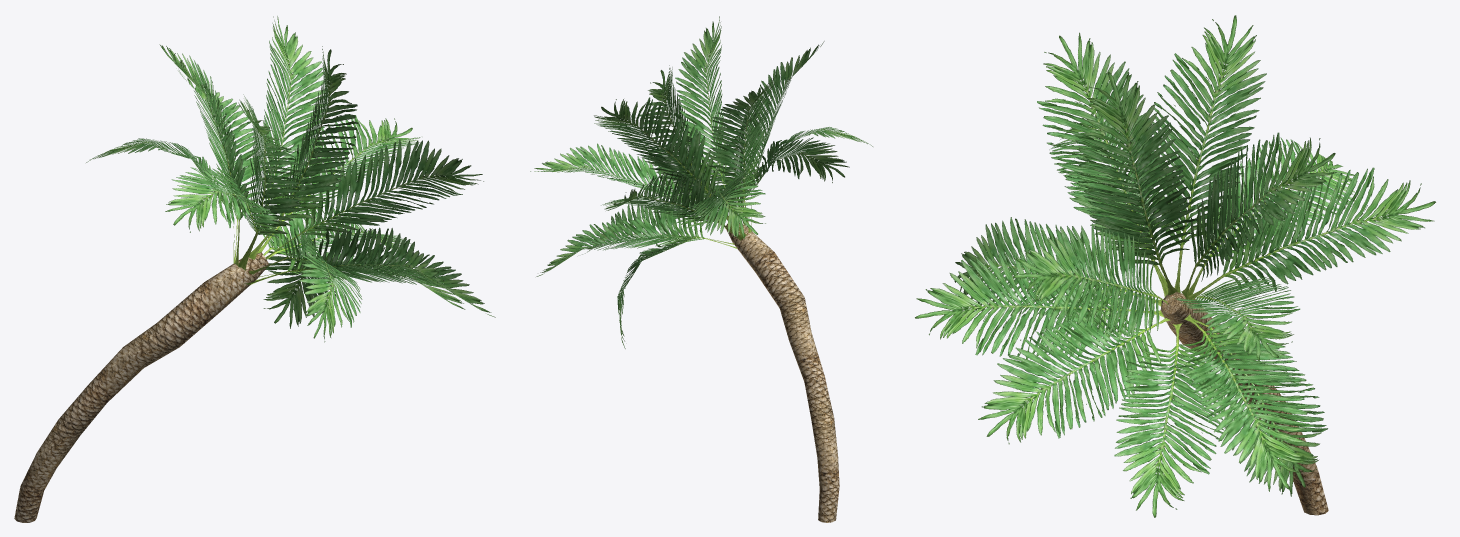
File: HyV3_LOD0.fbx
3 renders of one model, left to right at view 1: azimuth 30°, elevation 25°; view 2: azimuth 150°, elevation 25°; view 3: azimuth 270°, elevation 25°, orthographic. The views are drawn at different scales.
Visible parts, largest first — view 1: Mesh Object; view 2: Mesh Object; view 3: Mesh Object.
Boxes of the visible parts, x1,y1,x2,y2 form: Mesh Object: (14,16,495,522); Mesh Object: (530,16,872,522); Mesh Object: (915,15,1435,517).
Bounding box in the file's own units: 8.77 × 10.53 × 9.05.
